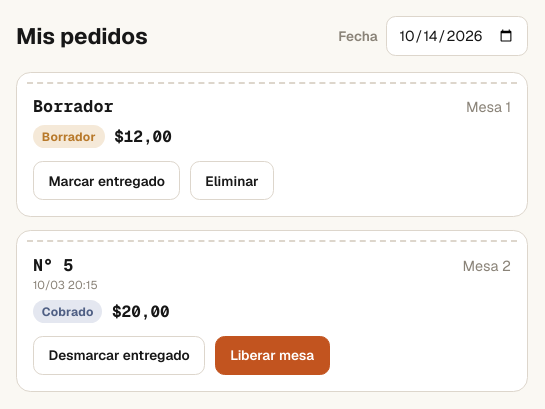
Test case: MyOrdersList (T67, RF-8/10) › deletes a draft order and refreshes the list
The width and height of the screenshot is (545, 409).
Expected: the text "Mesa 1" is shown, x1=466 y1=98 x2=511 y2=116
Click the button "Eliminar" at x=232, y=181, box x1=190 y1=161 x2=274 y2=200
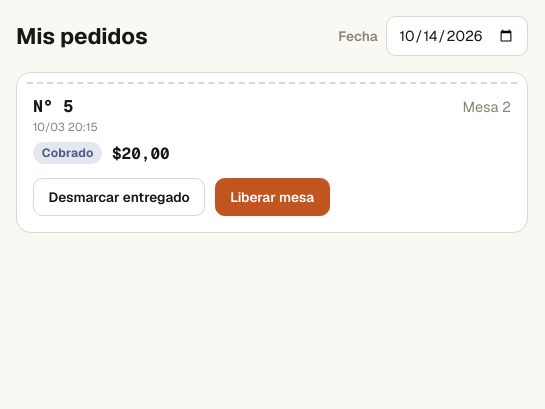
Now the text "Mesa 1" is gone
